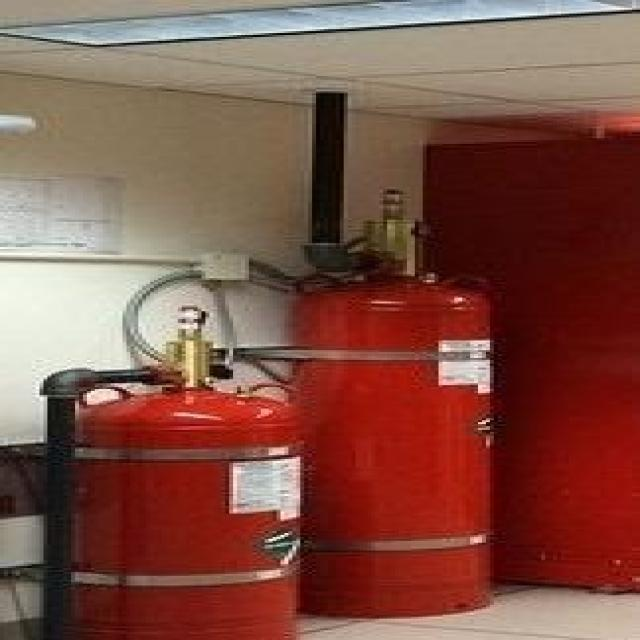fire_extinguisher: (274, 181, 508, 620), (32, 304, 320, 638)
